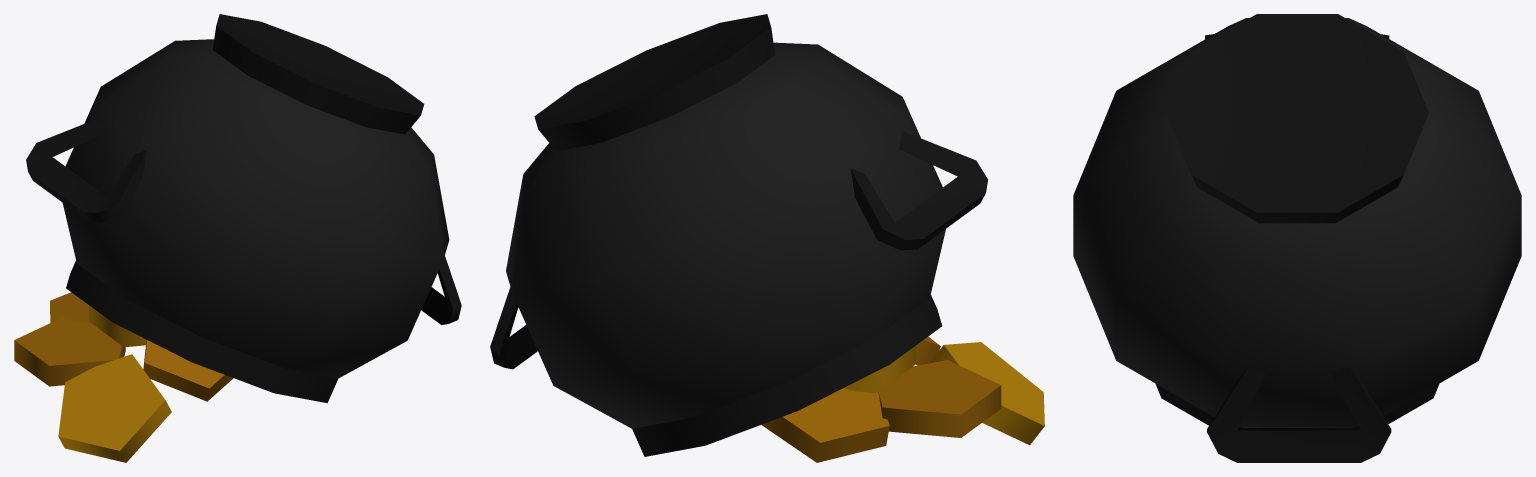
File: hat_potOfGold.glb
The picture shows the model from 3 angles, left to right: view 1: azimuth 30°, elevation 25°; view 2: azimuth 150°, elevation 25°; view 3: azimuth 270°, elevation 25°; orthographic projection. The views are drawn at different scales.
Parts seen in each view (by area): view 1: hat_potOfGold; view 2: hat_potOfGold; view 3: hat_potOfGold.
Part boxes in pixels (x1,y1,x2,y2): hat_potOfGold: (14, 14, 461, 462); hat_potOfGold: (490, 14, 1044, 462); hat_potOfGold: (1073, 14, 1521, 462).
Bounding box in the file's own units: 0.3324 × 0.274 × 0.2837.
